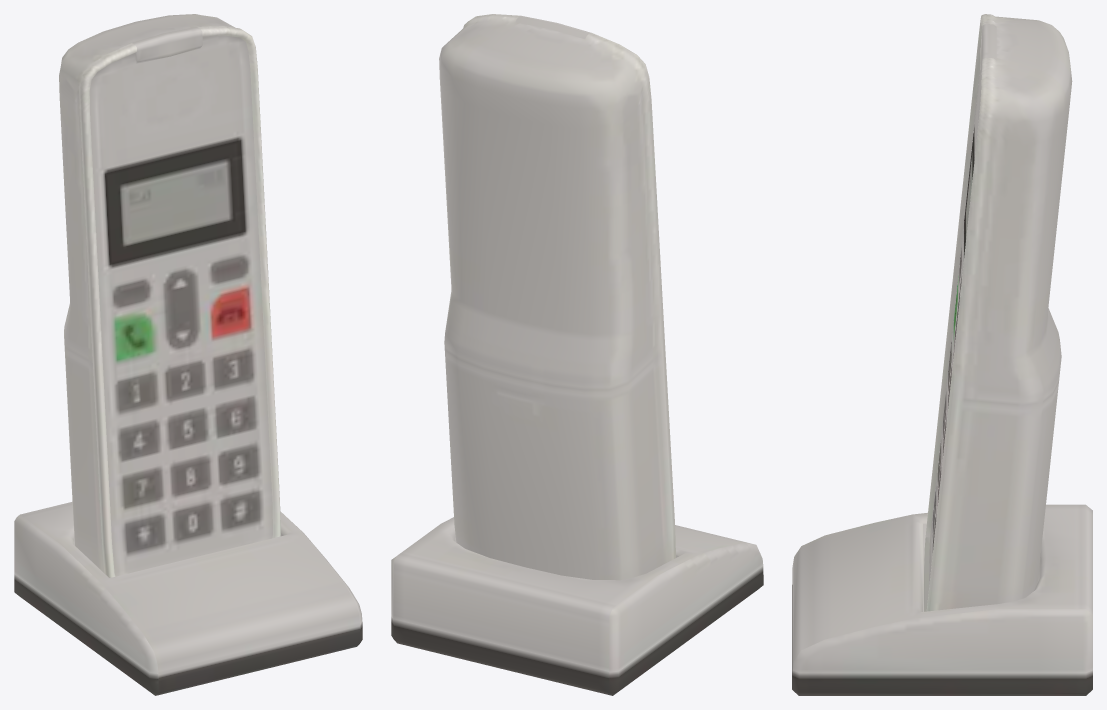
3 renders of one model, left to right at view 1: azimuth 30°, elevation 25°; view 2: azimuth 150°, elevation 25°; view 3: azimuth 270°, elevation 25°, orthographic. The views are drawn at different scales.
Bounding box in the file's own units: 2.11 × 5.42 × 2.44.
1 material, 1 textured.
